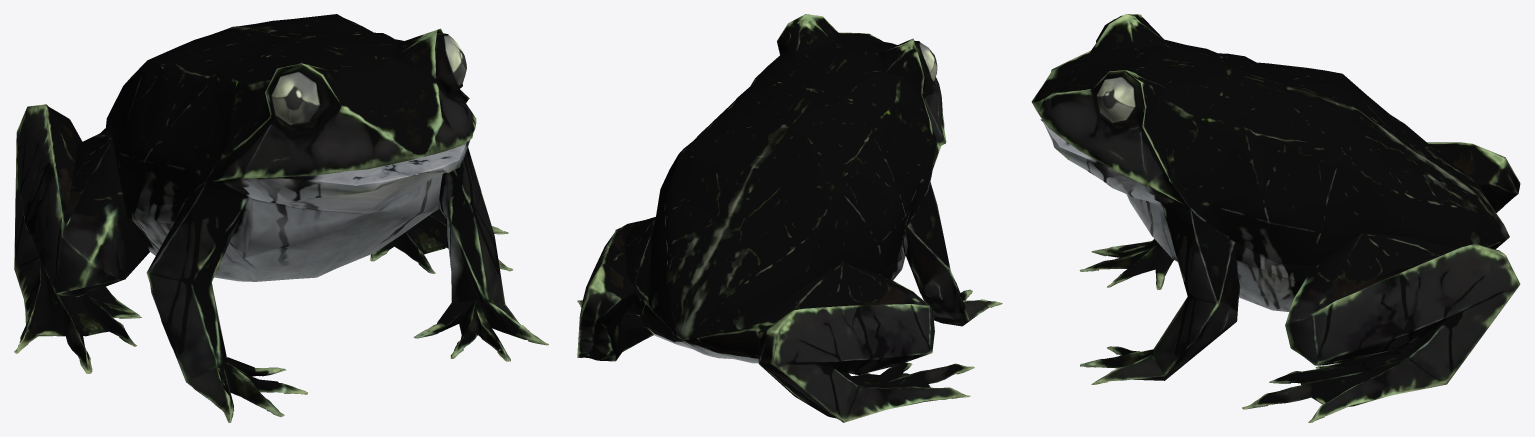
Rendered from inkfrog.glb.
3 renders of one model, left to right at view 1: azimuth 30°, elevation 25°; view 2: azimuth 150°, elevation 25°; view 3: azimuth 270°, elevation 25°, orthographic. The views are drawn at different scales.
Visible parts, largest first — view 1: geometry_0; view 2: geometry_0; view 3: geometry_0.
Boxes of the visible parts, x1,y1,x2,y2 form: geometry_0: (14, 14, 548, 422); geometry_0: (577, 14, 1002, 422); geometry_0: (1031, 14, 1520, 422).
Bounding box in the file's own units: 0.9424 × 0.5947 × 0.9453.
Materials: 1 (1 with a texture image).
